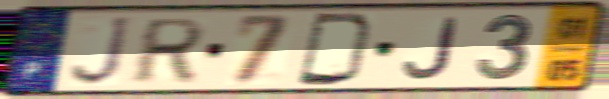3: (473, 11, 536, 85)
7: (231, 12, 297, 88)
D: (294, 11, 378, 88)
J: (67, 14, 136, 89), (399, 15, 462, 82)
R: (127, 16, 210, 86)
